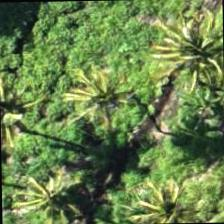Kelapa_Sawit: (45, 52, 137, 144), (0, 142, 90, 223), (119, 169, 211, 223)
